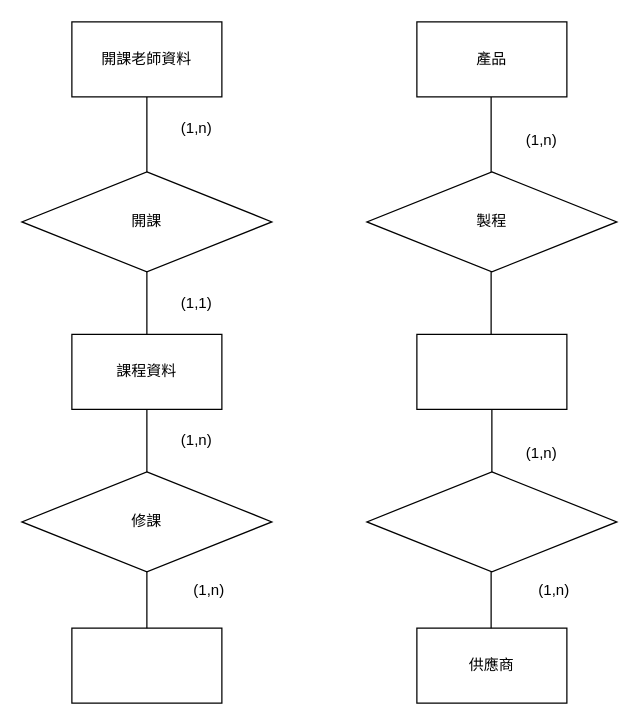
Image size: 639x725. Some labels were removed from this diagram. Each missing label, with the centre of its shape:
"供應" goes at point (491, 521).
"學生資料" goes at point (146, 665).
"設備" goes at point (491, 371).
